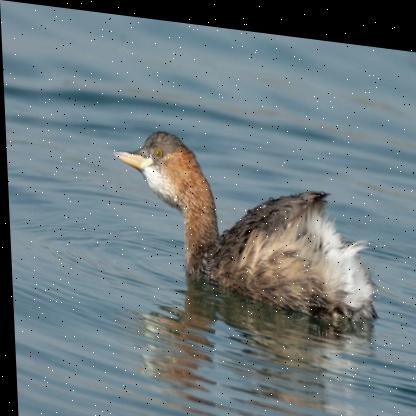Burung: (112, 122, 373, 318)
